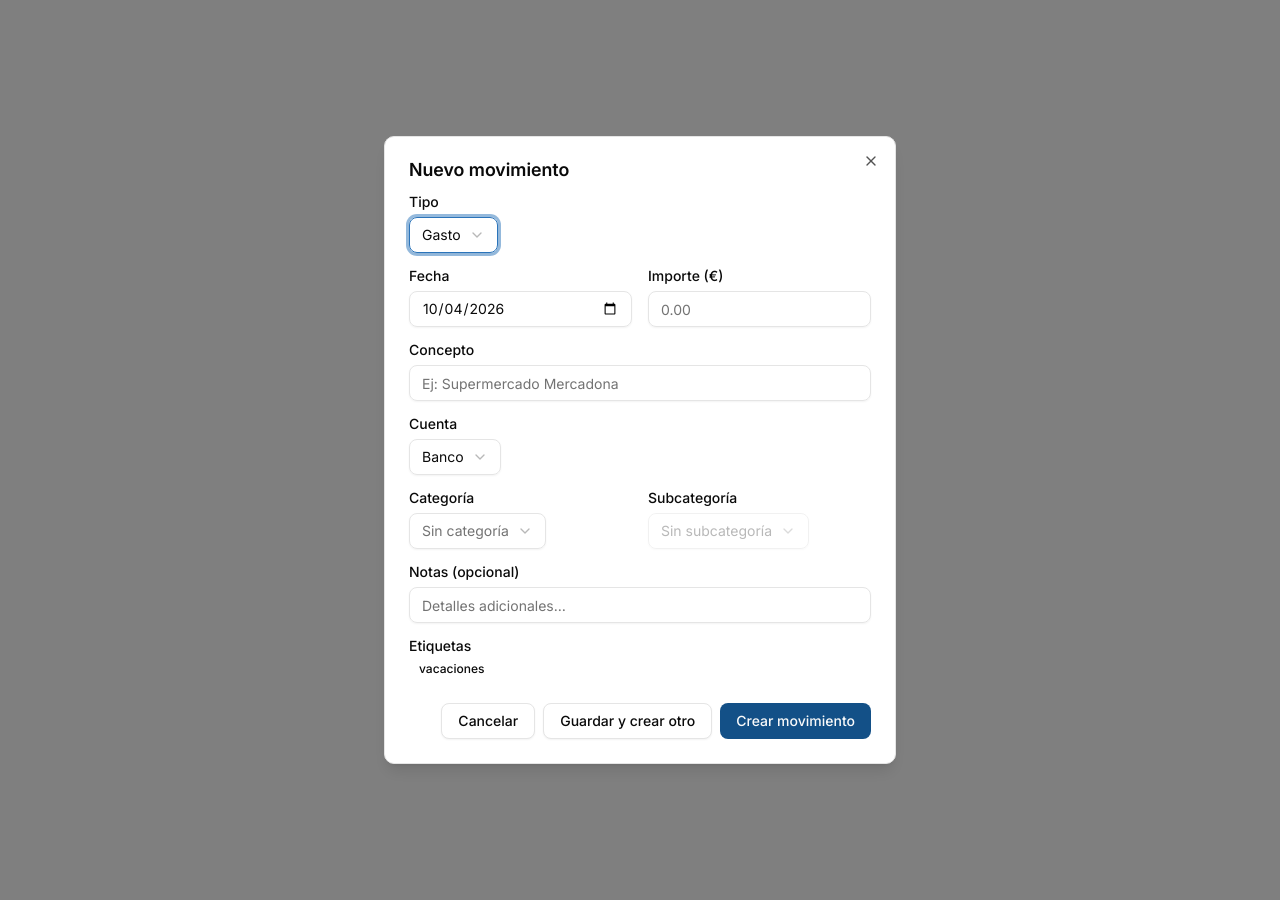
Test: TransactionForm — validación › exige concepto e importe
Click the button "Crear movimiento": [796, 721] box 720,703 -> 871,739
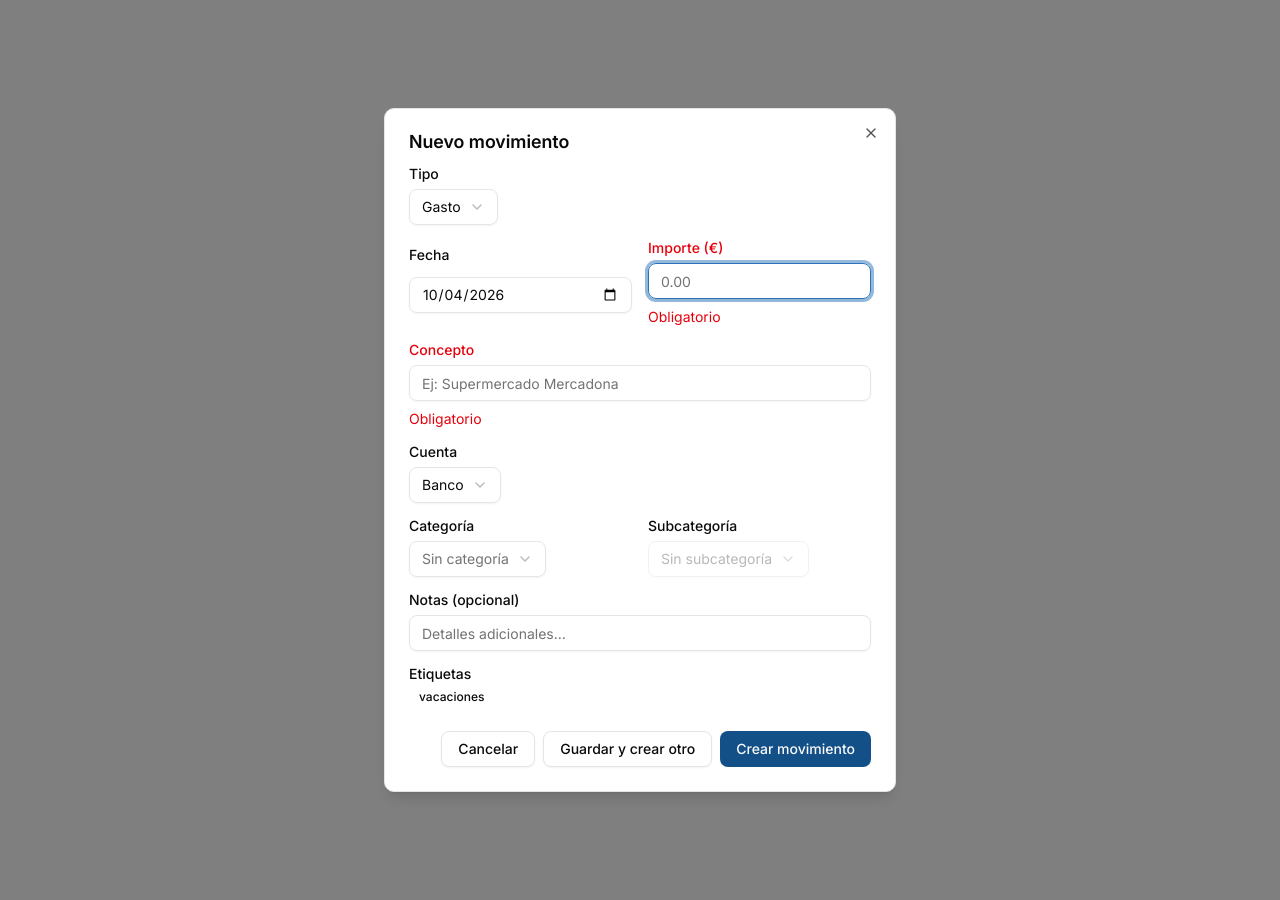
Result: the text "Obligatorio" is shown 2 times at 648,308 -> 720,325; 409,410 -> 482,427
